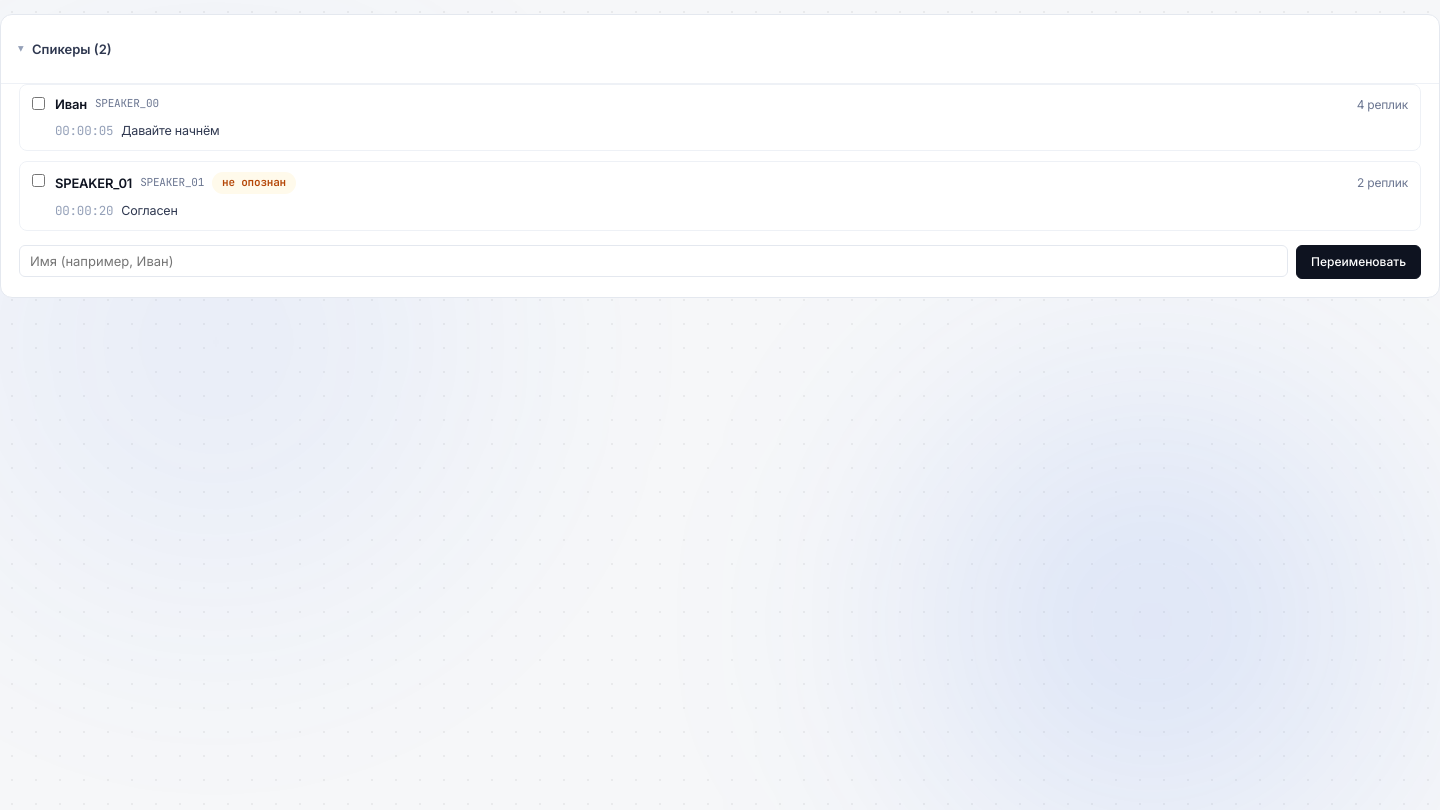
it: TranscriptSpeakersV4 › shows a recoverable inline error instead of crashing when merge fails (409)
Expected: the text "Иван" is shown, [55, 95, 87, 114]
Step 1. Click the checkbox named "Выбрать спикера Иван" → coordinates (38, 104), box [32, 97, 45, 110]
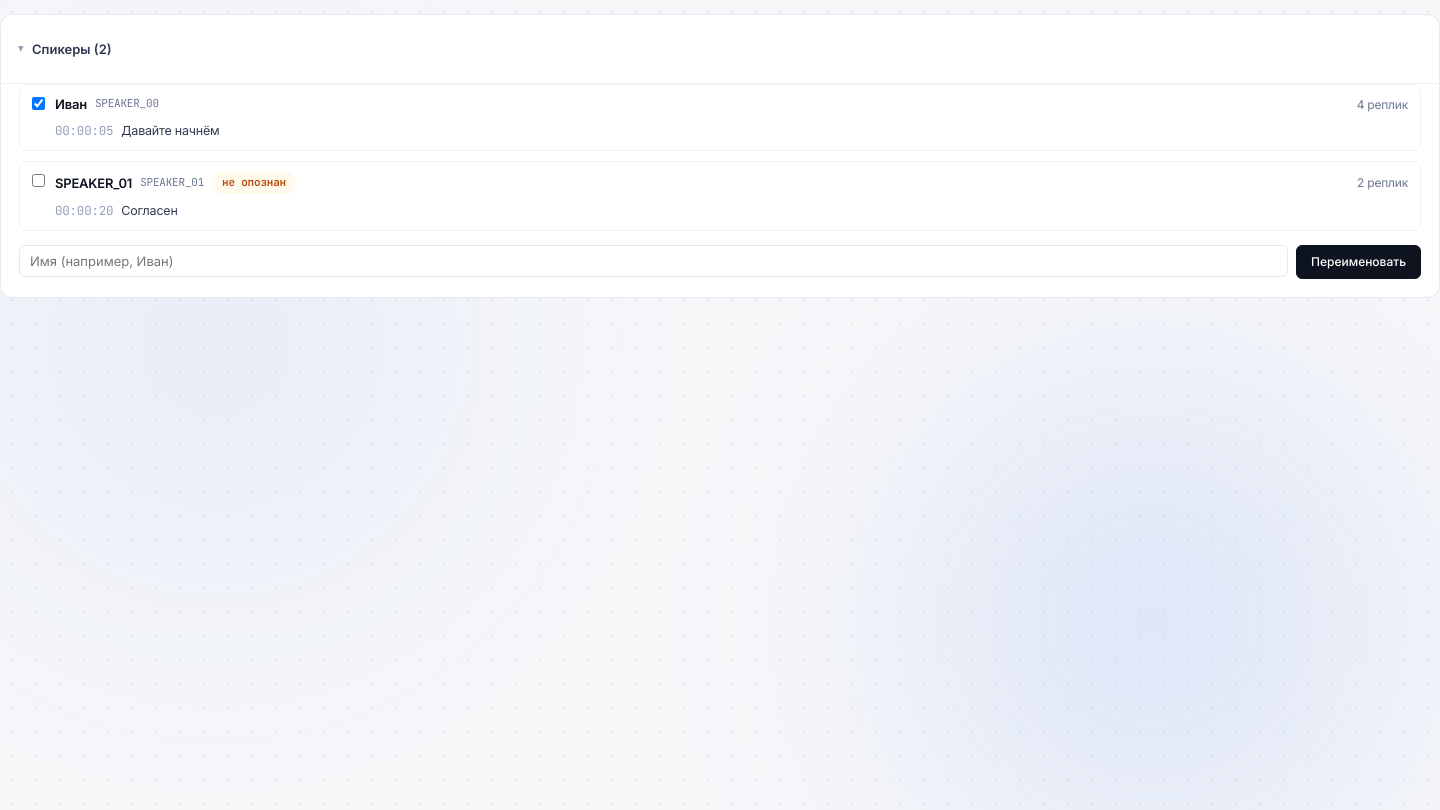
Step 2. Type "Пётр" into the field named "Итоговое имя для выбранных спикеров" → coordinates (654, 261), box [19, 245, 1288, 277]
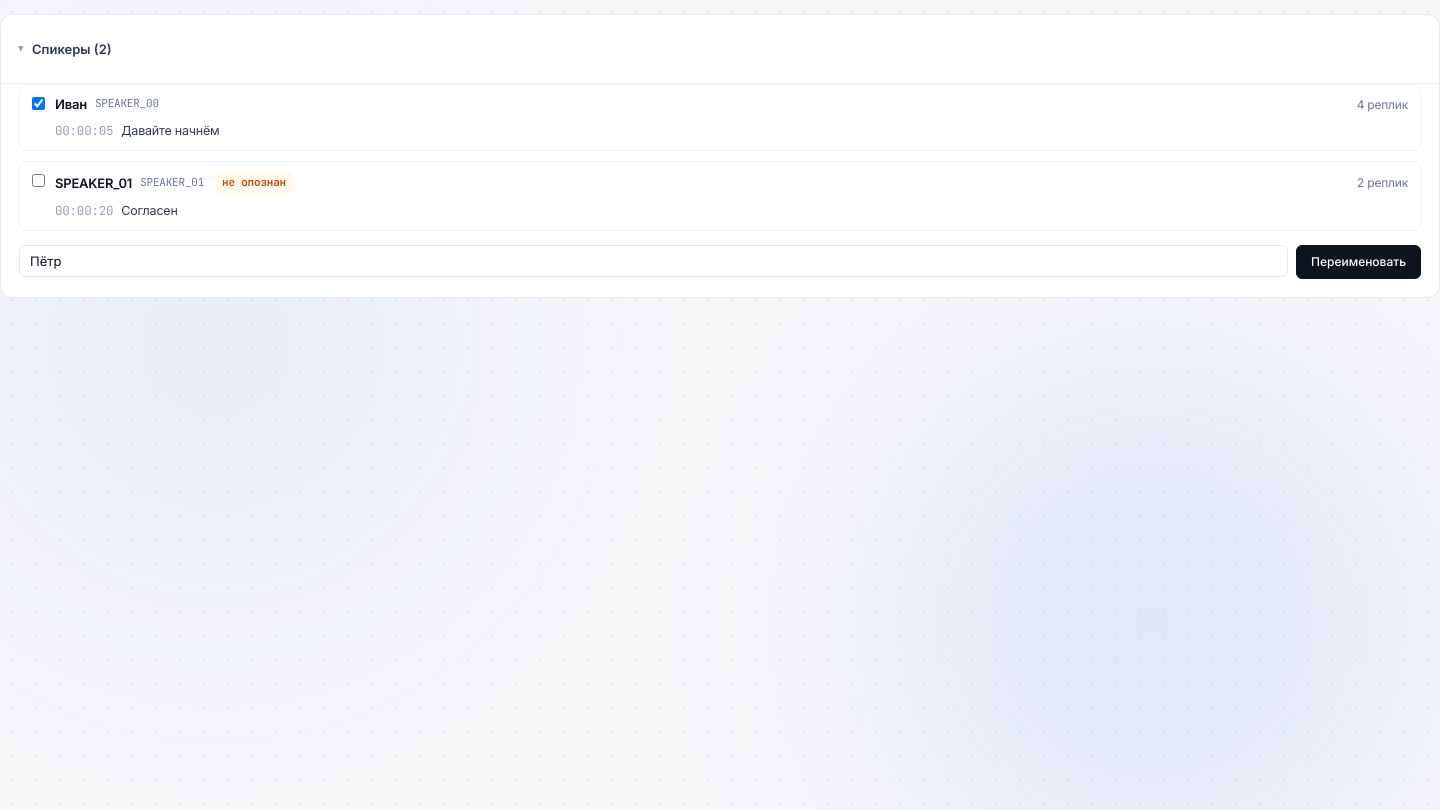
Step 3. Click the button "Переименовать" → coordinates (1358, 262), box [1296, 245, 1421, 279]
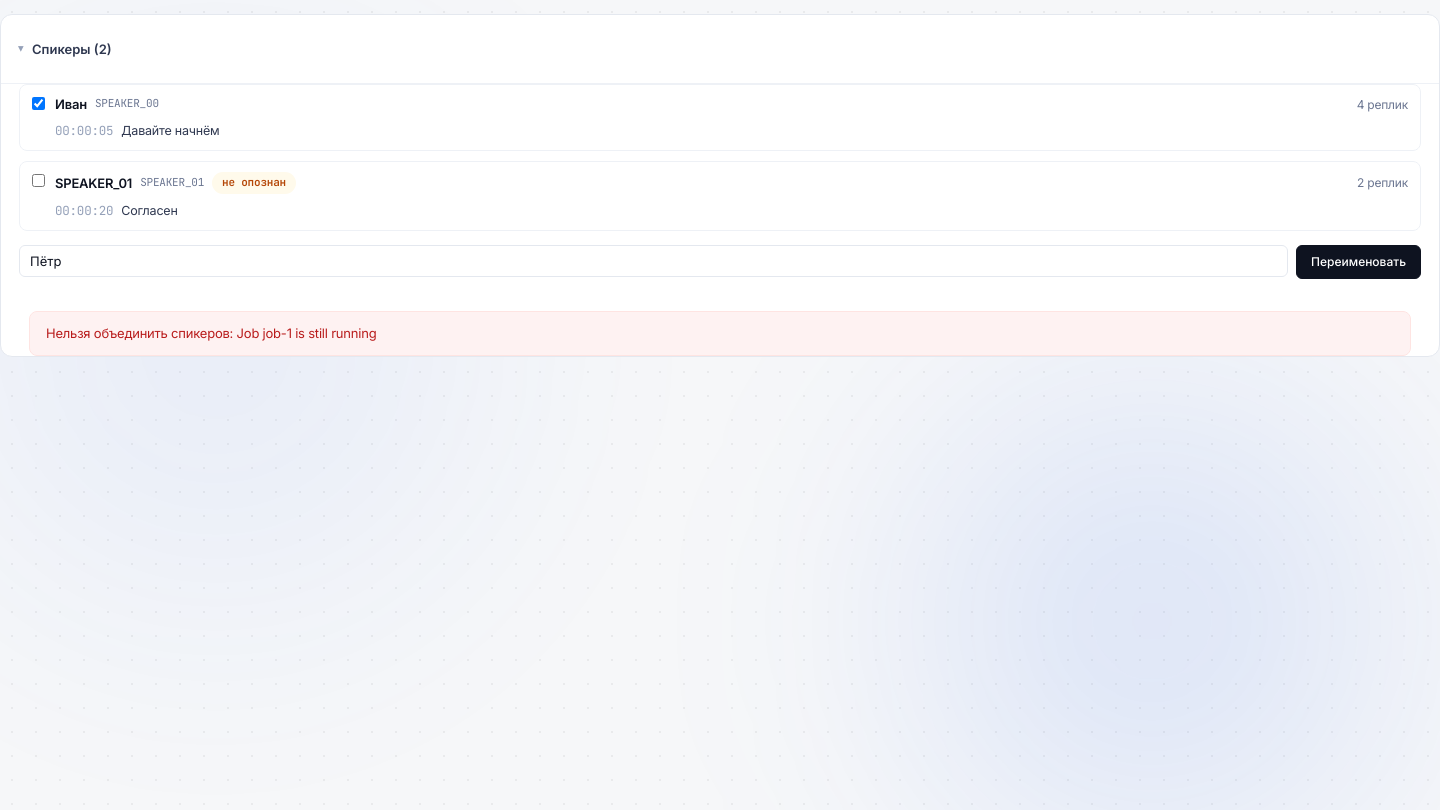
Now the text "Нельзя объединить спикеров: Job job-1 is still running" is shown, box [29, 311, 1411, 356]
